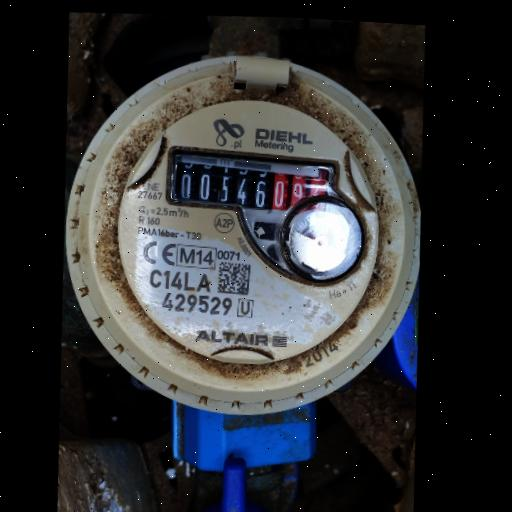0: (173, 160, 201, 199), (195, 163, 219, 202), (269, 170, 292, 210)
4: (232, 167, 256, 207)
5: (213, 164, 237, 203)
6: (250, 168, 273, 209)
9: (289, 172, 313, 209)
border_water_meter_number: (165, 141, 339, 221)
